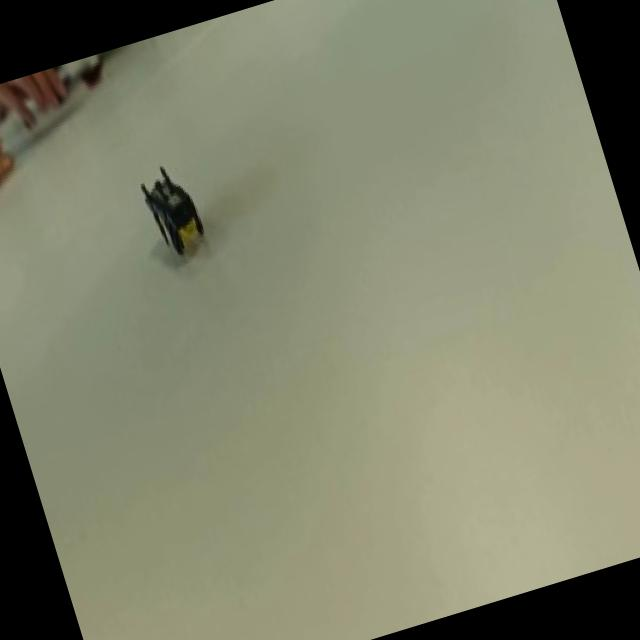6_NanoBug_GrisOscuro: (100, 138, 240, 312)
